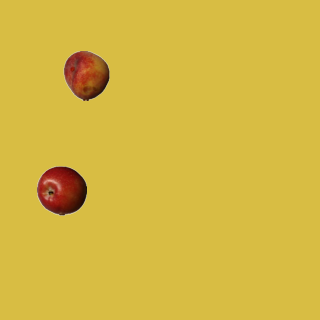Apple Braeburn: (36, 165, 86, 215)
Peach: (61, 50, 111, 100)
